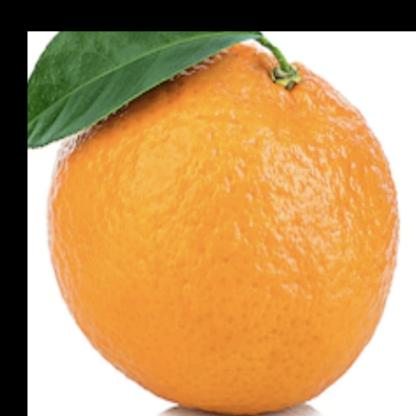fresh: (46, 39, 404, 414)
